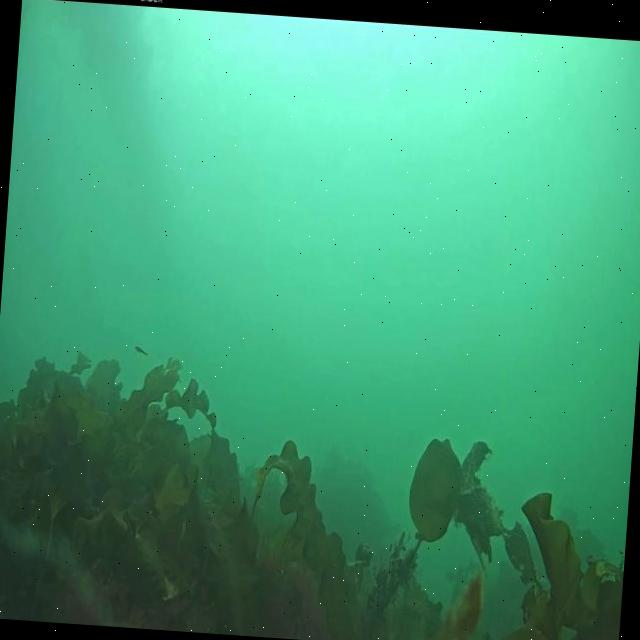fish: (132, 342, 150, 358)
